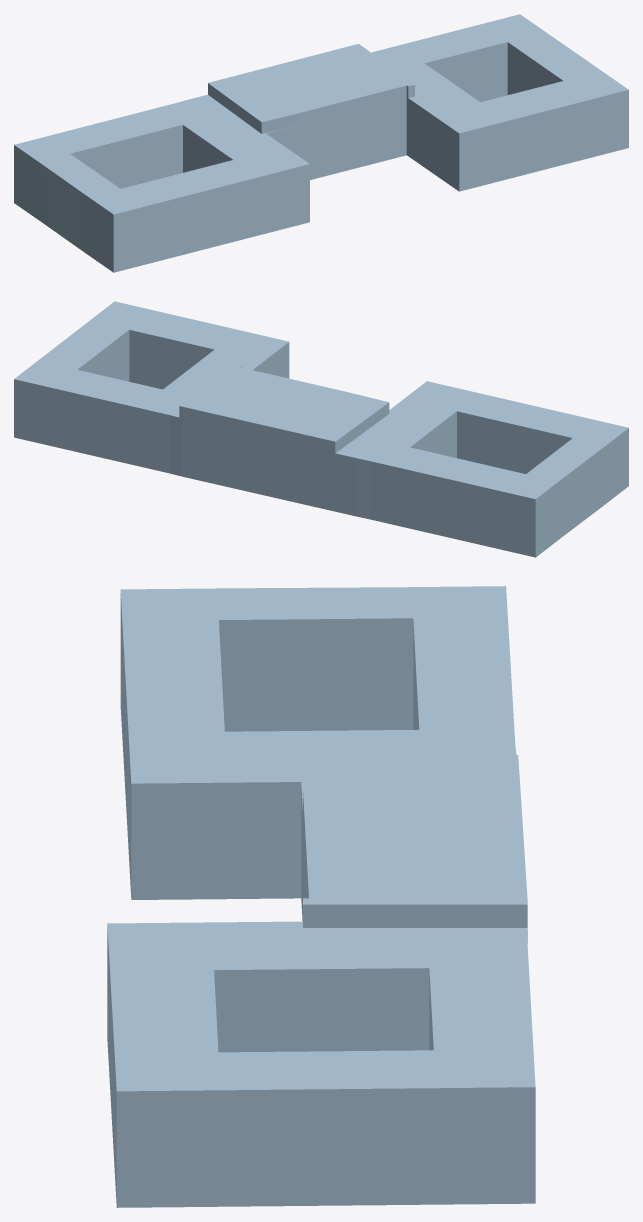
File: osm_way_223699456.glb
The picture shows the model from 3 angles, top to bottom: view 1: azimuth 30°, elevation 25°; view 2: azimuth 150°, elevation 25°; view 3: azimuth 270°, elevation 25°; orthographic projection. The views are drawn at different scales.
Visible parts, largest first — view 1: osm_way_223699456; view 2: osm_way_223699456; view 3: osm_way_223699456.
Boxes of the visible parts, left/top/right/bottom form: osm_way_223699456: left=14, top=14, right=628, bottom=272; osm_way_223699456: left=14, top=301, right=628, bottom=557; osm_way_223699456: left=107, top=586, right=535, bottom=1207.
Size of the model in its own units: 172 by 22.2 by 61.64.
